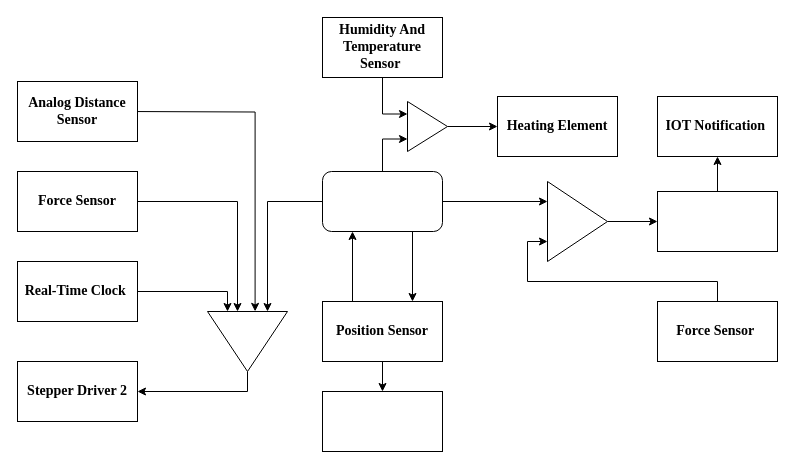
The diagram is 795 pixels wide and 469 high, and some of its shapes have lost their labels. Each missing label, with the centre of its shape:
Food Quantity Display: the point at 717,221
Microcontroller: the point at 382,201
Stepper Driver 1: the point at 382,421
